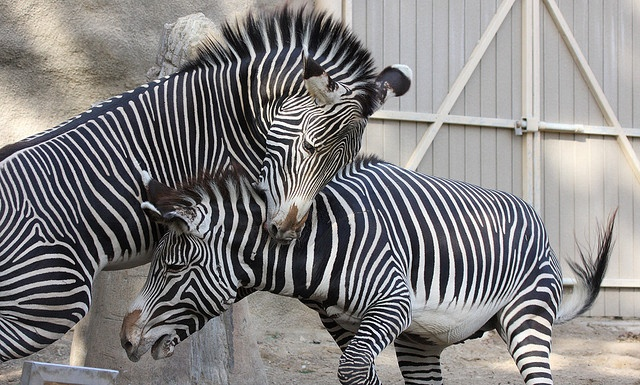zebra: (1, 5, 414, 363), (122, 156, 620, 385)
